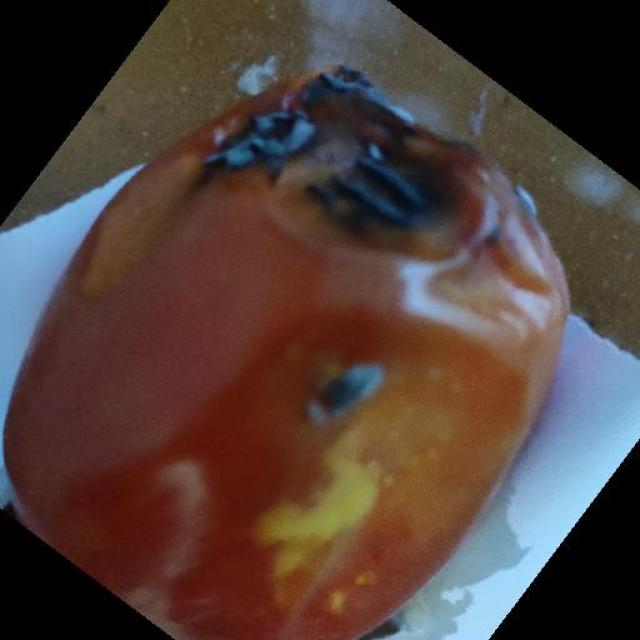Stale_tomato: (57, 44, 549, 640)
